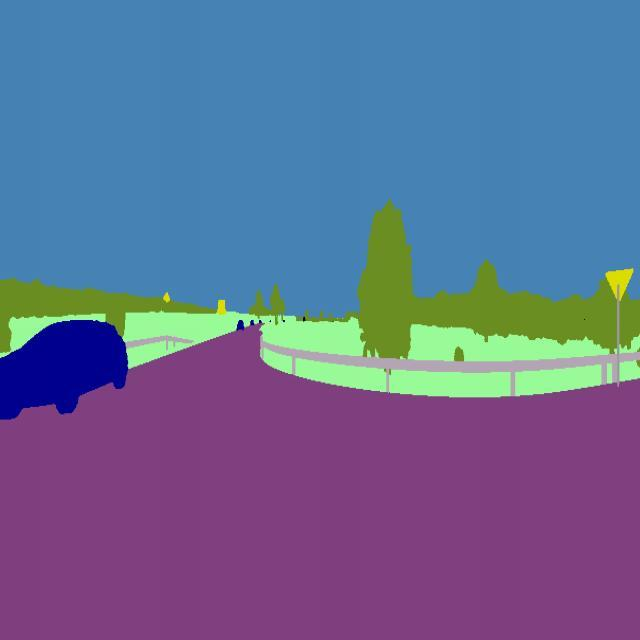safe: (0, 316, 129, 420)
